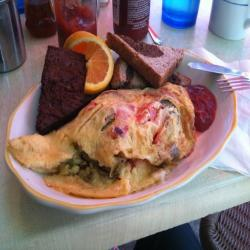bread: (34, 42, 91, 133), (111, 30, 183, 90)
omelette: (13, 94, 195, 193)
